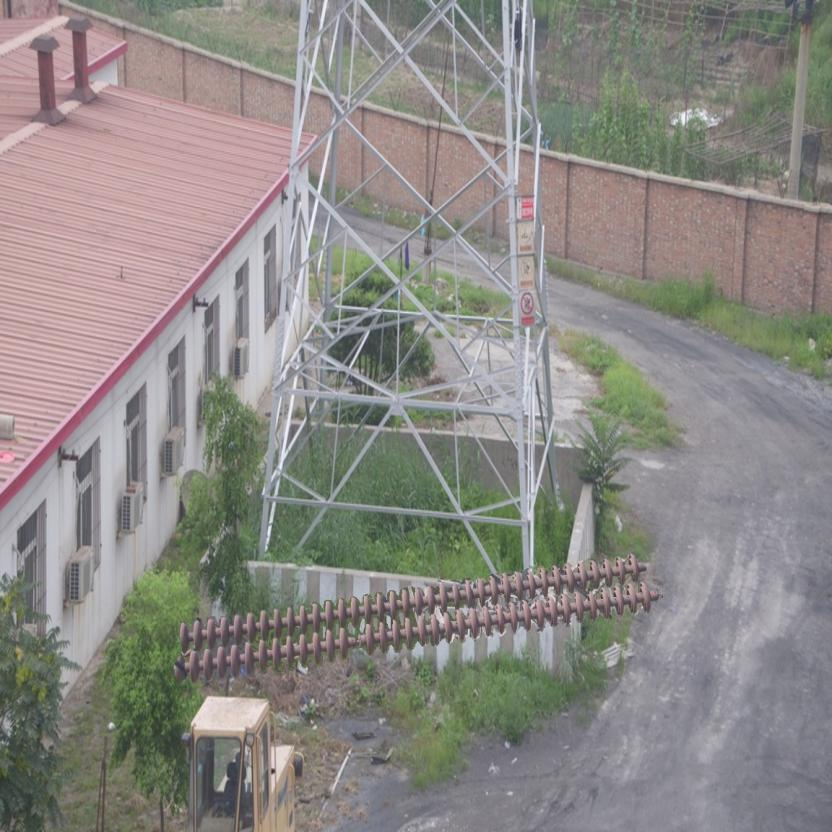defect: (332, 620, 378, 659)
